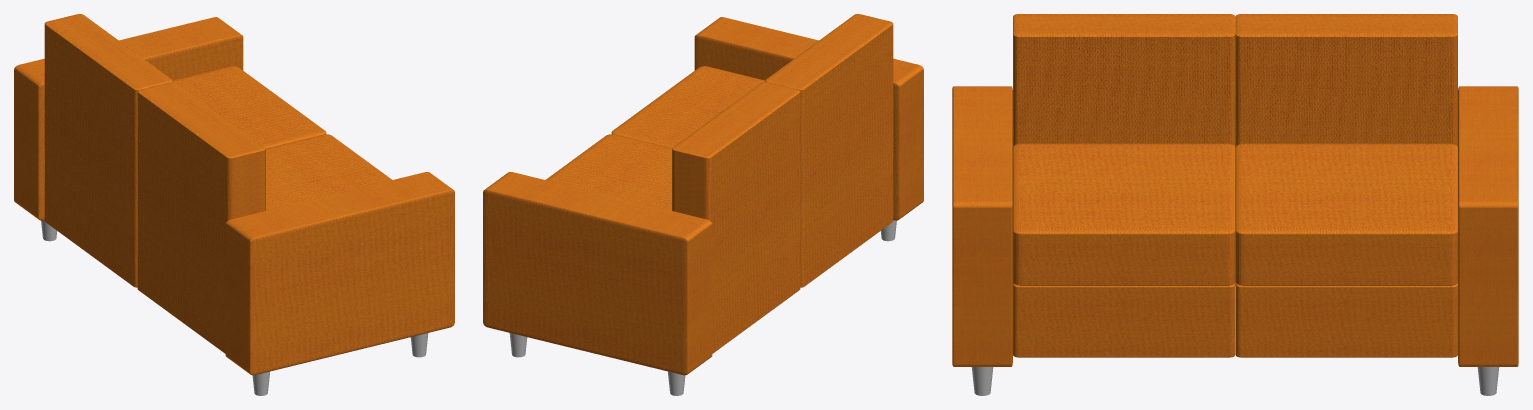
The model's file is sofabevel1.fbx.
3 renders of one model, left to right at view 1: azimuth 30°, elevation 25°; view 2: azimuth 150°, elevation 25°; view 3: azimuth 270°, elevation 25°, orthographic. The views are drawn at different scales.
Parts seen in each view (by area): view 1: Cube, Cube.006, Cube.007, Cube.003, Cube.005, Cube.004; view 2: Cube.003, Cube.007, Cube.006, Cube, Cube.004, Cube.005; view 3: Cube.004, Cube.005, Cube.006, Cube.007, Cube, Cube.003, Cube.001, Cube.002, Cylinder, Cylinder.002.
Part boxes in pixels (<box>): Cube: <box>225,172,454,375</box>; Cube.006: <box>137,82,265,353</box>; Cube.007: <box>44,14,172,287</box>; Cube.003: <box>14,17,243,220</box>; Cube.005: <box>266,134,391,210</box>; Cube.004: <box>172,66,326,148</box>; Cube.003: <box>483,172,712,375</box>; Cube.007: <box>672,82,800,353</box>; Cube.006: <box>765,14,893,287</box>; Cube: <box>694,17,923,220</box>; Cube.004: <box>546,134,671,210</box>; Cube.005: <box>611,66,765,148</box>; Cube.004: <box>1235,143,1457,285</box>; Cube.005: <box>1013,143,1235,285</box>; Cube.006: <box>1013,14,1235,147</box>; Cube.007: <box>1235,14,1457,146</box>; Cube: <box>952,86,1012,366</box>; Cube.003: <box>1458,86,1518,366</box>; Cube.001: <box>1013,282,1235,357</box>; Cube.002: <box>1235,282,1457,357</box>; Cylinder: <box>971,367,993,395</box>; Cylinder.002: <box>1477,367,1499,395</box>.
Size of the model in its own units: 71.31 by 76.59 by 143.
Materials: 2 (1 with a texture image).
